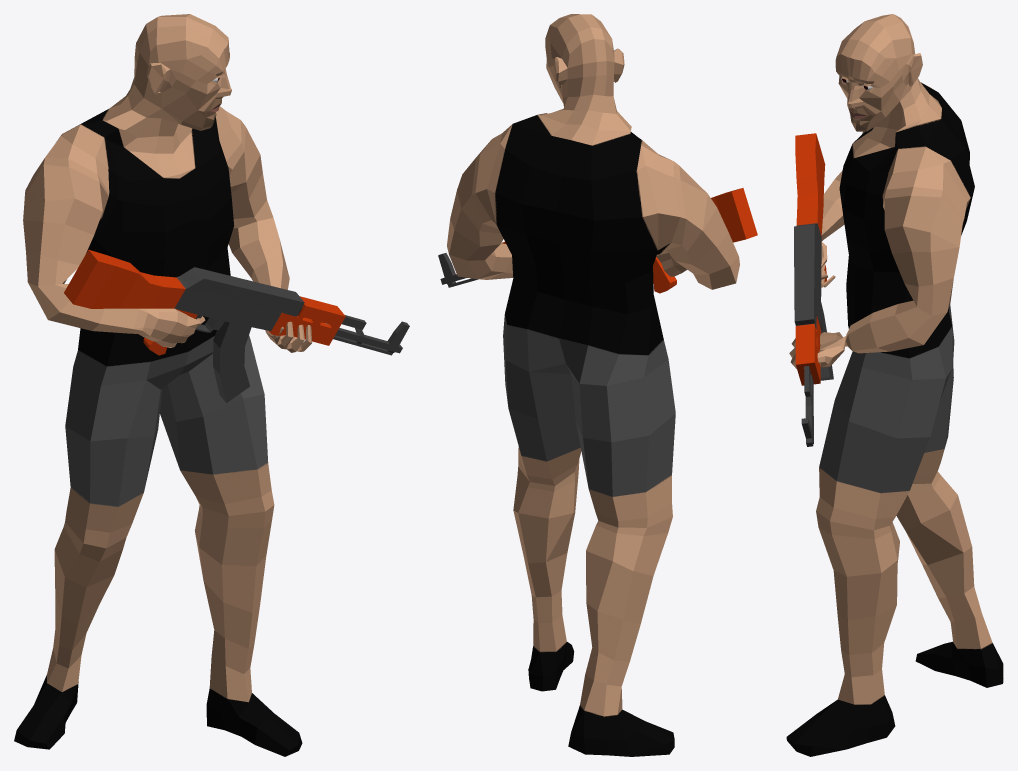
The model's file is PlayerIdle(150).obj.
3 views of the same model, side by side, from view 1: azimuth 30°, elevation 25°; view 2: azimuth 150°, elevation 25°; view 3: azimuth 270°, elevation 25° (orthographic). The views are drawn at different scales.
Visible parts, largest first — view 1: Plane002, Object001; view 2: Plane002, Object001; view 3: Plane002, Object001.
Boxes of the visible parts, x1,y1,x2,y2 form: Plane002: (14,14,327,756); Object001: (64,249,409,402); Plane002: (447,14,739,756); Object001: (438,188,757,293); Plane002: (786,14,1003,756); Object001: (794,133,833,446).
Bounding box in the file's own units: 893 × 1790 × 505.
